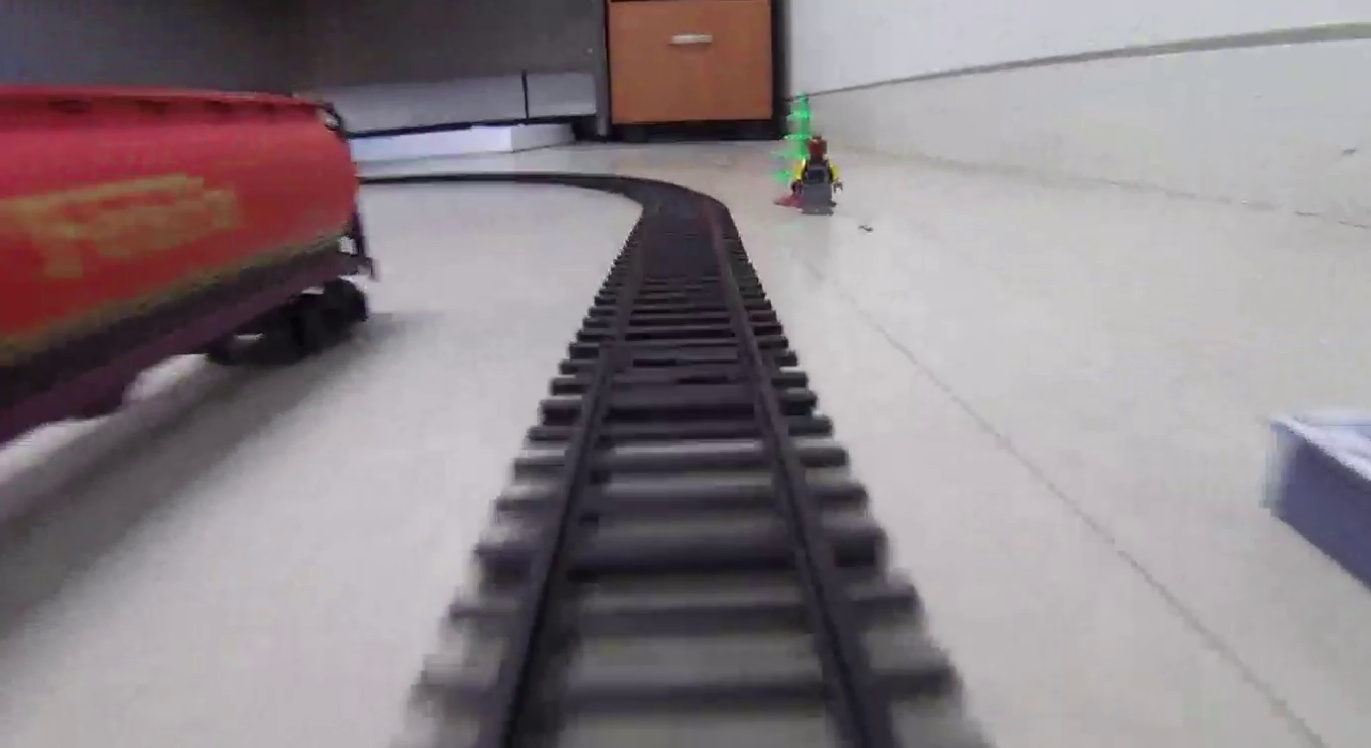people: (795, 134, 846, 217)
